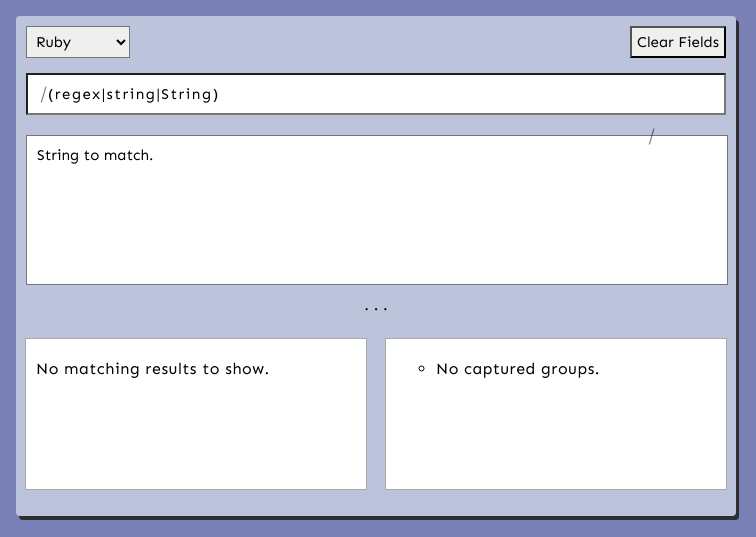
Scenario: clear field button clears all with opt added
Type "i" into the field titled "Options".
click(686, 94); type("i")  # box [646, 73, 726, 115]
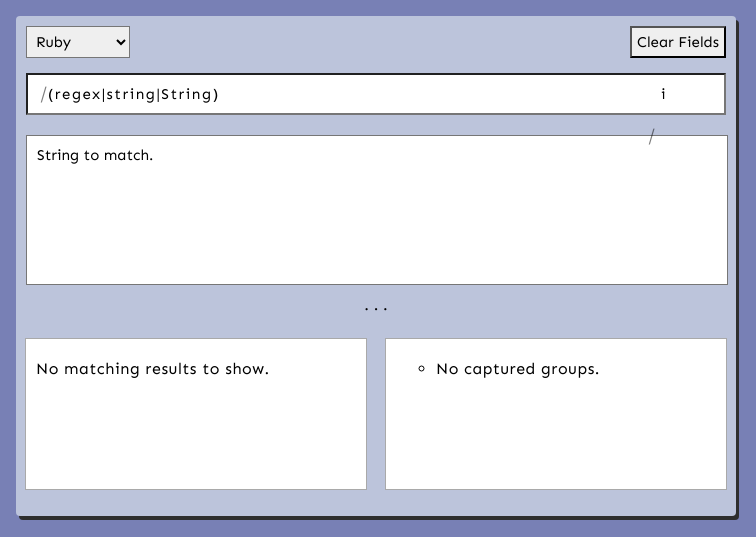
Click the button titled "Clear Fields".
click(678, 42)  # box [630, 26, 726, 58]
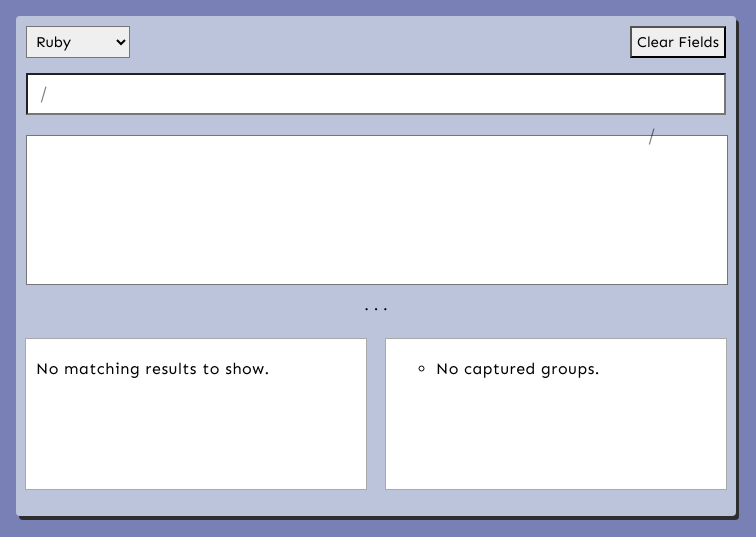
Expected: the field titled "Options" is empty, [646, 73, 726, 115]
Result: the field titled "Regex" is empty at [26, 73, 646, 115]
Result: the text box titled "String" is empty at [26, 135, 728, 285]
